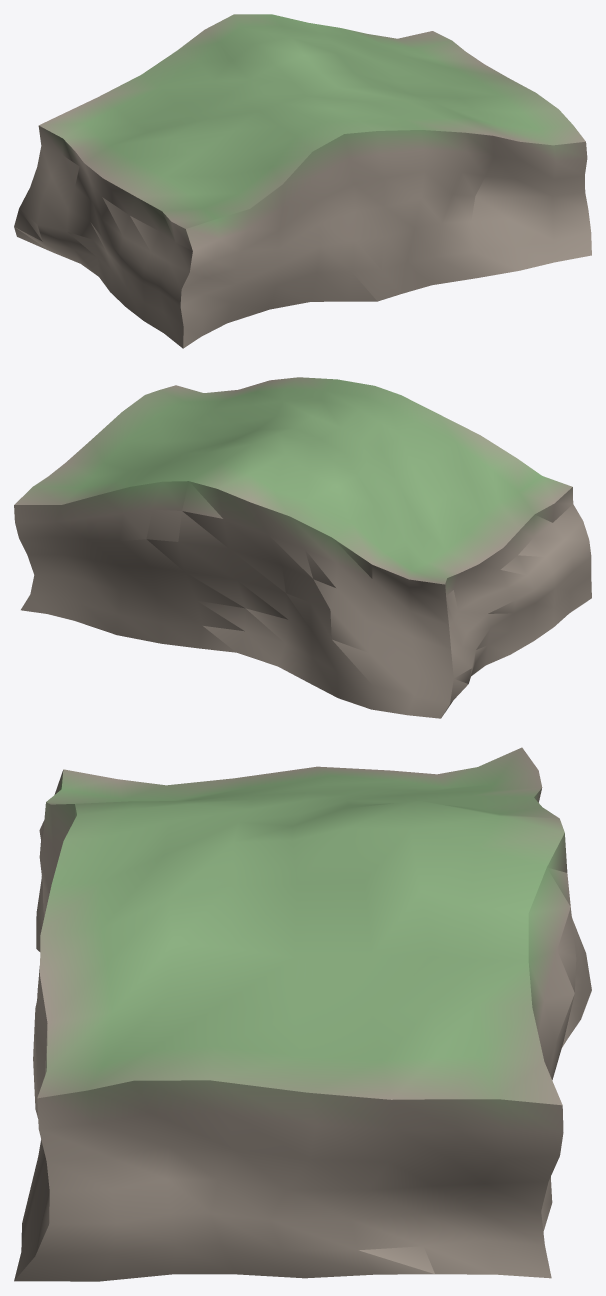
Rendered from headland_left.glb.
The picture shows the model from 3 angles, top to bottom: view 1: azimuth 30°, elevation 25°; view 2: azimuth 150°, elevation 25°; view 3: azimuth 270°, elevation 25°; orthographic projection. The views are drawn at different scales.
Visible parts, largest first — view 1: body; view 2: body; view 3: body.
Part boxes in pixels (bbox=[...]): body: bbox=[14, 14, 591, 348]; body: bbox=[14, 377, 591, 718]; body: bbox=[14, 747, 591, 1281].
Size of the model in its own units: 73.84 by 29.45 by 51.41.
